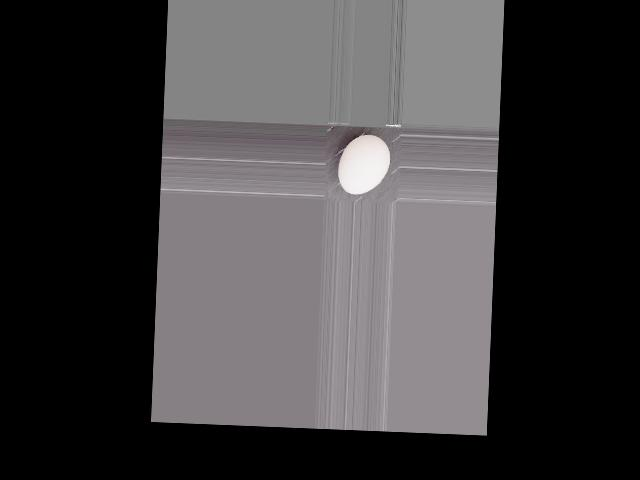egg: (336, 133, 390, 195)
